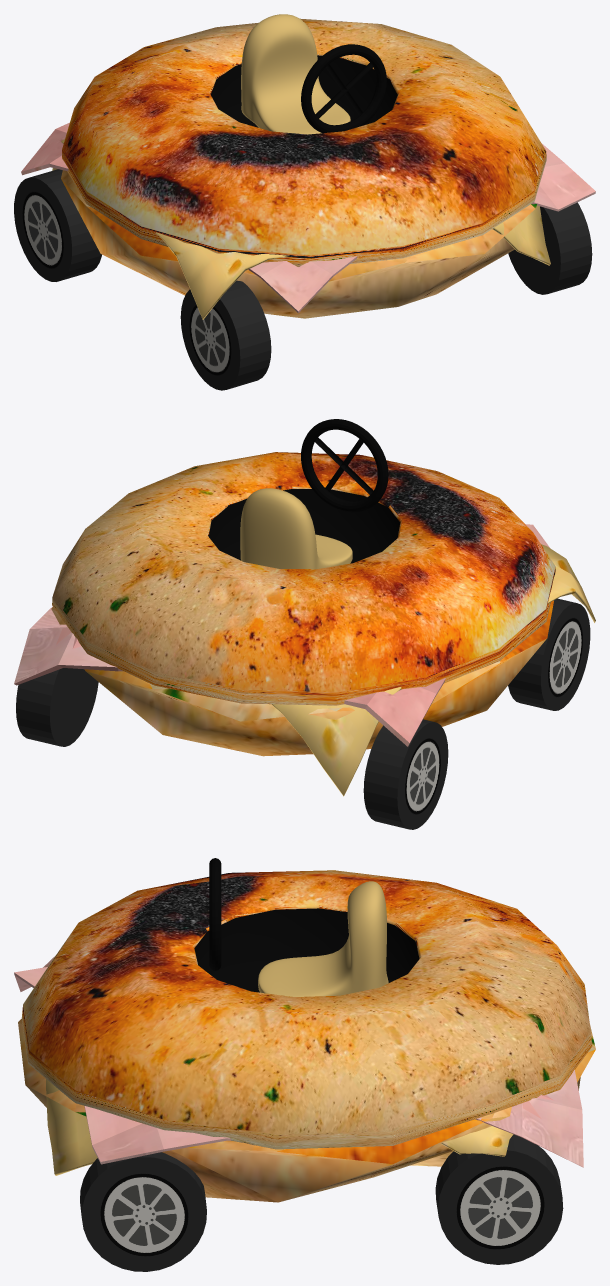
Rendered from carro arepa2.fbx.
3 renders of one model, top to bottom at view 1: azimuth 30°, elevation 25°; view 2: azimuth 150°, elevation 25°; view 3: azimuth 270°, elevation 25°, orthographic. The views are drawn at different scales.
Parts seen in each view (by area): view 1: Cubo.002, Cubo.001; view 2: Cubo.002, Cubo.001; view 3: Cubo.002, Cubo.001.
Part boxes in pixels (x1,y1,x2,y2): Cubo.002: [21, 14, 595, 319]; Cubo.001: [14, 169, 592, 390]; Cubo.002: [14, 419, 595, 796]; Cubo.001: [16, 598, 590, 829]; Cubo.002: [14, 858, 595, 1202]; Cubo.001: [80, 1134, 563, 1271].
Bounding box in the file's own units: 429 × 269 × 456.
